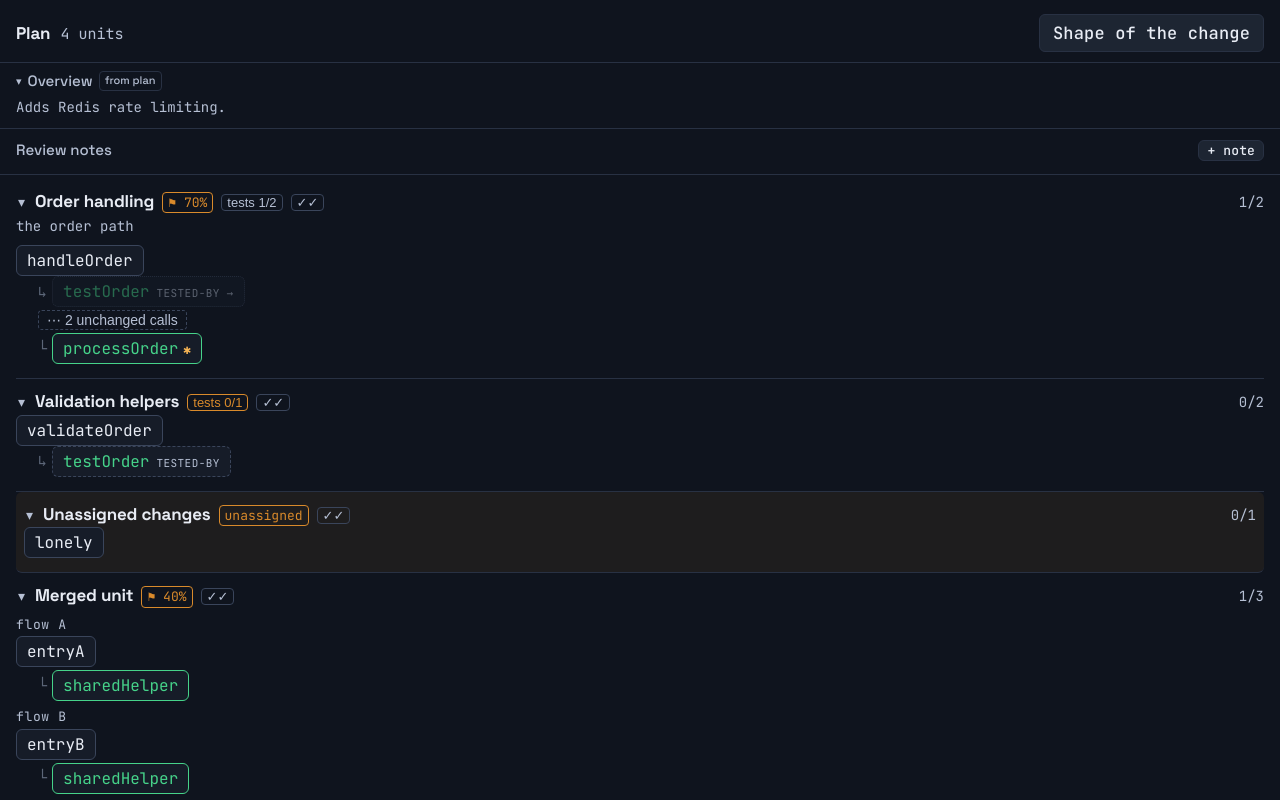
PlanView › collapses the overview on toggle
Click the button with test id "plan-overview-toggle".
click(89, 81)  # box [16,71,162,91]
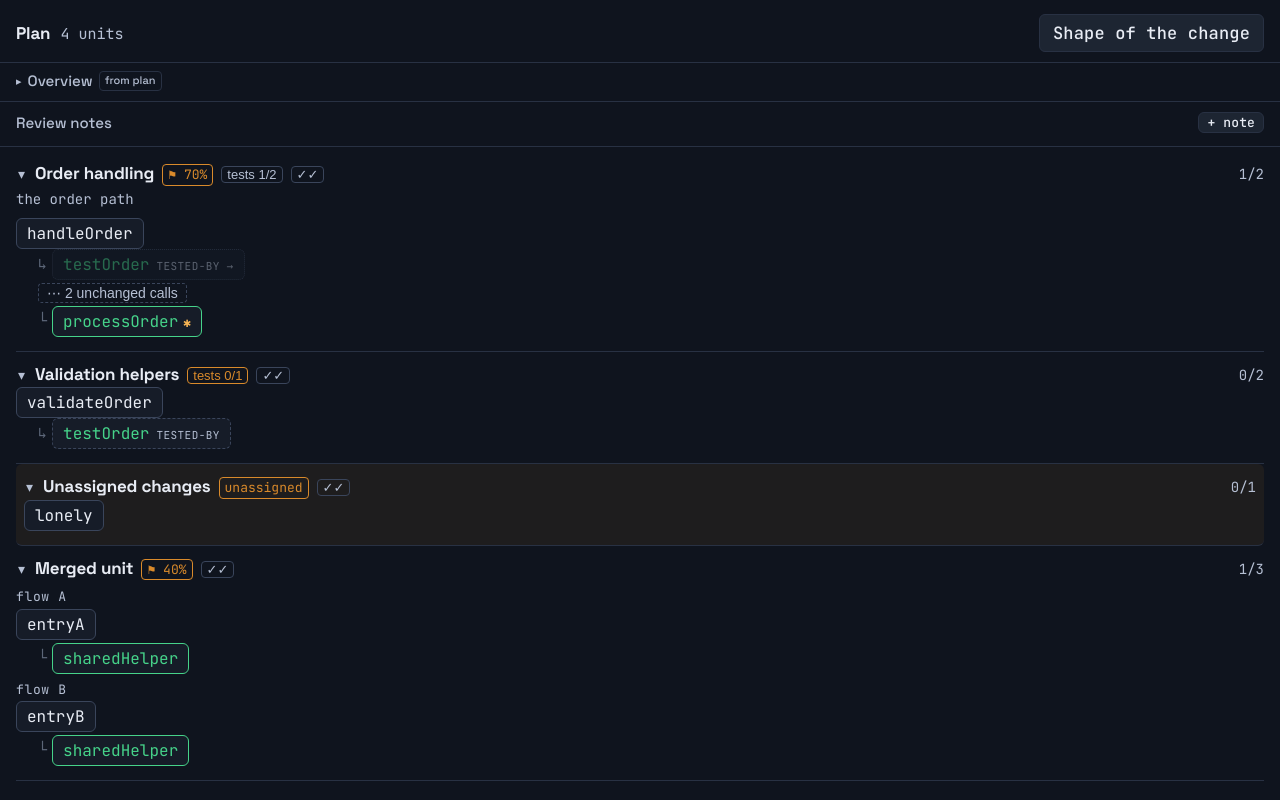
Expected: the text "Adds Redis rate limiting." is gone
